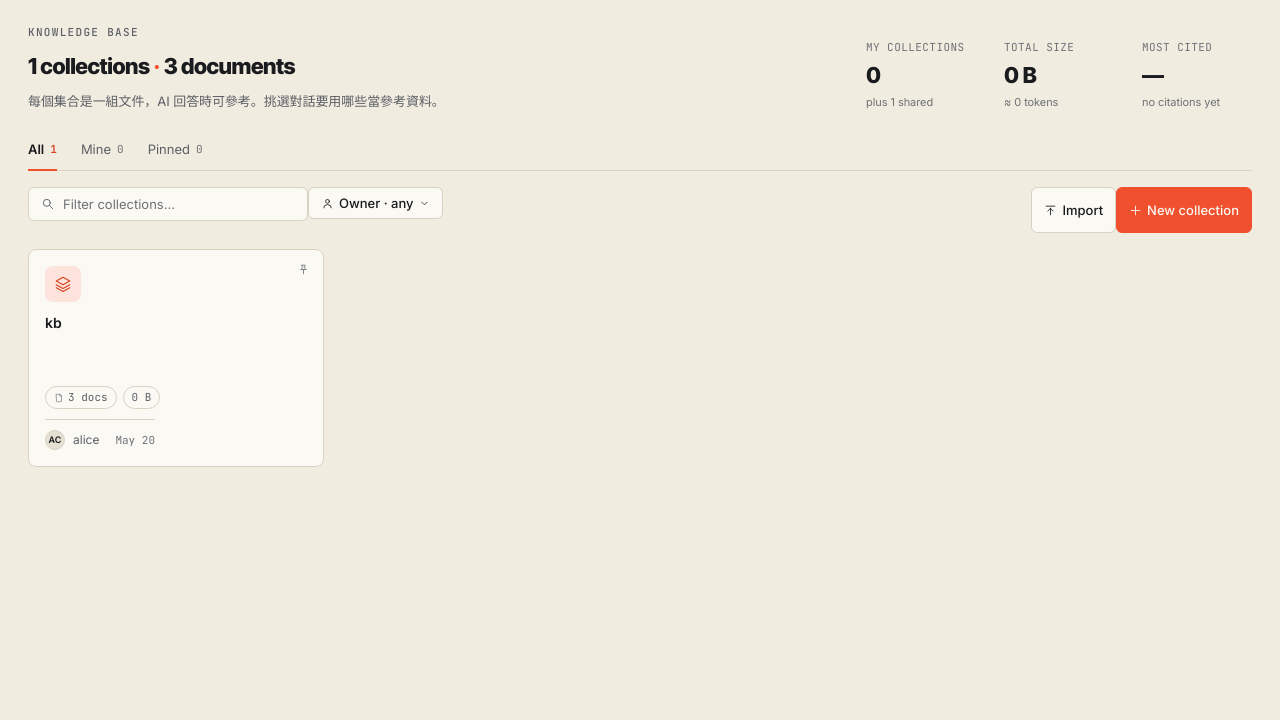
Scenario: KbCollectionsPage › says so when the re-read could not be sent at all
The image size is (1280, 720).
Click the button with aria-label "Open kb" at (63, 284), box [28,249,324,467]
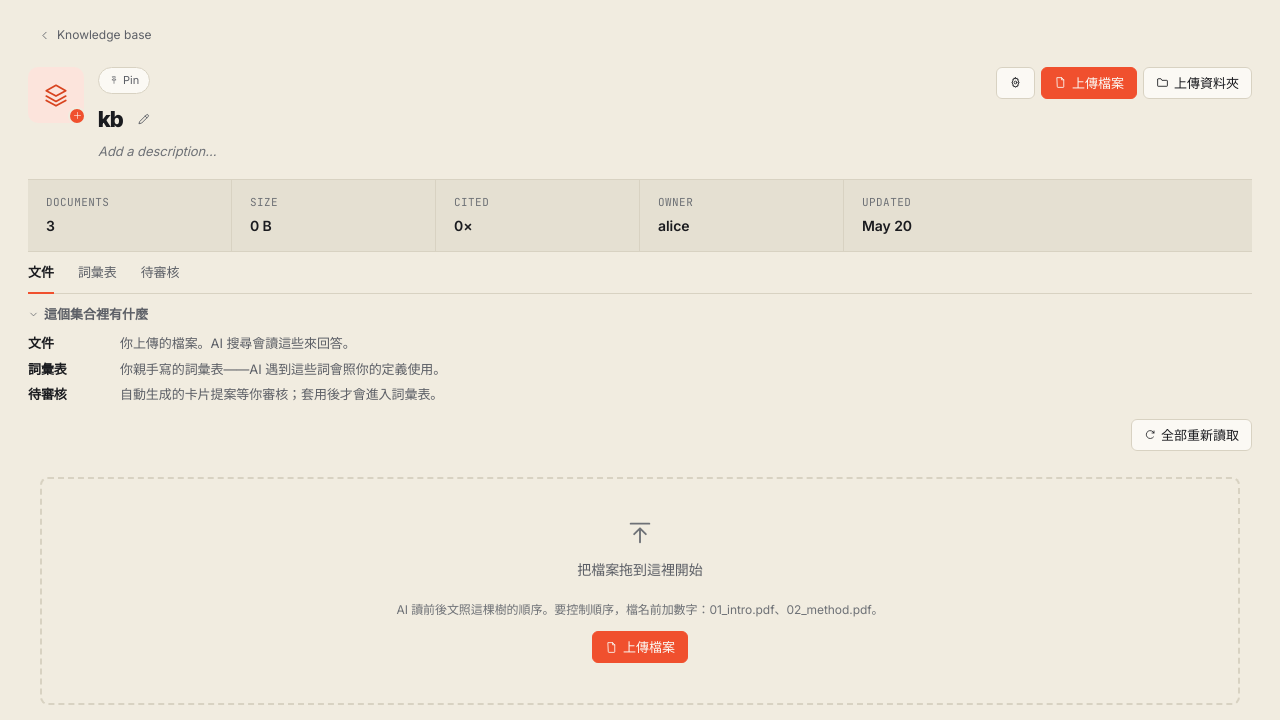
Click the button with test id "kb-reindex-all" at (1192, 435), box [1131,419,1252,451]
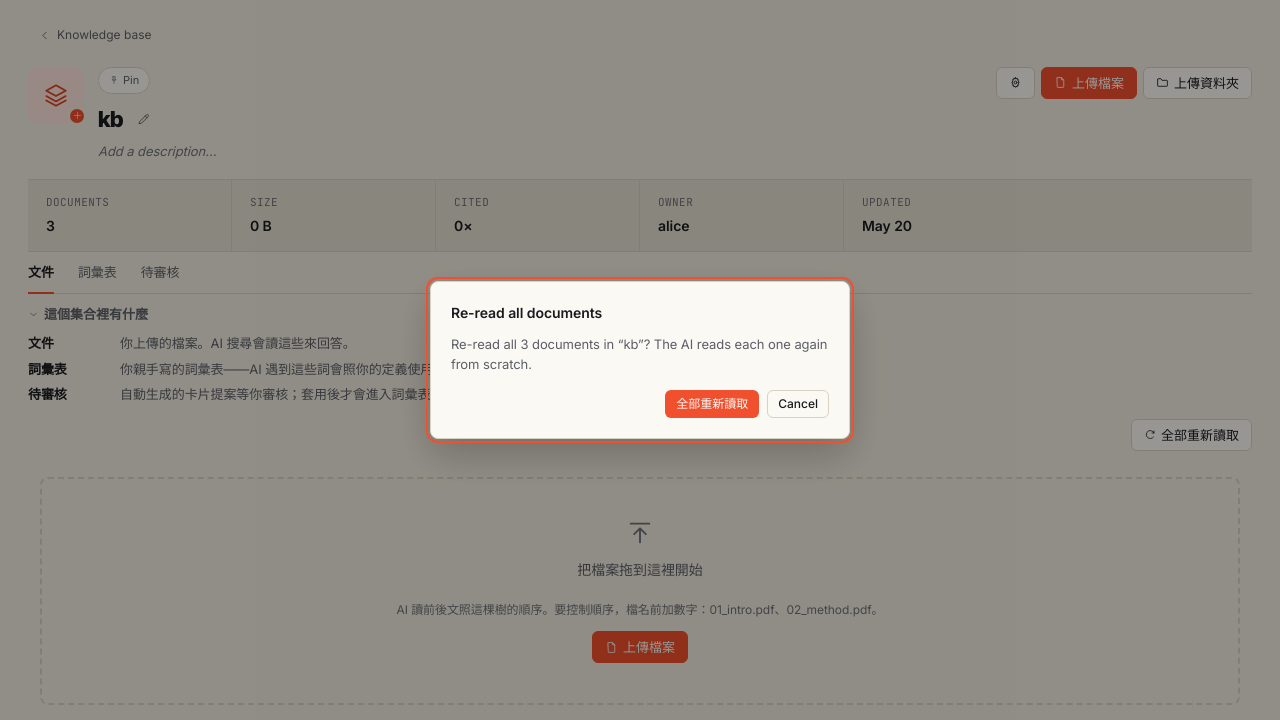
Click the button "全部重新讀取" at (712, 404), box [665,390,759,418]
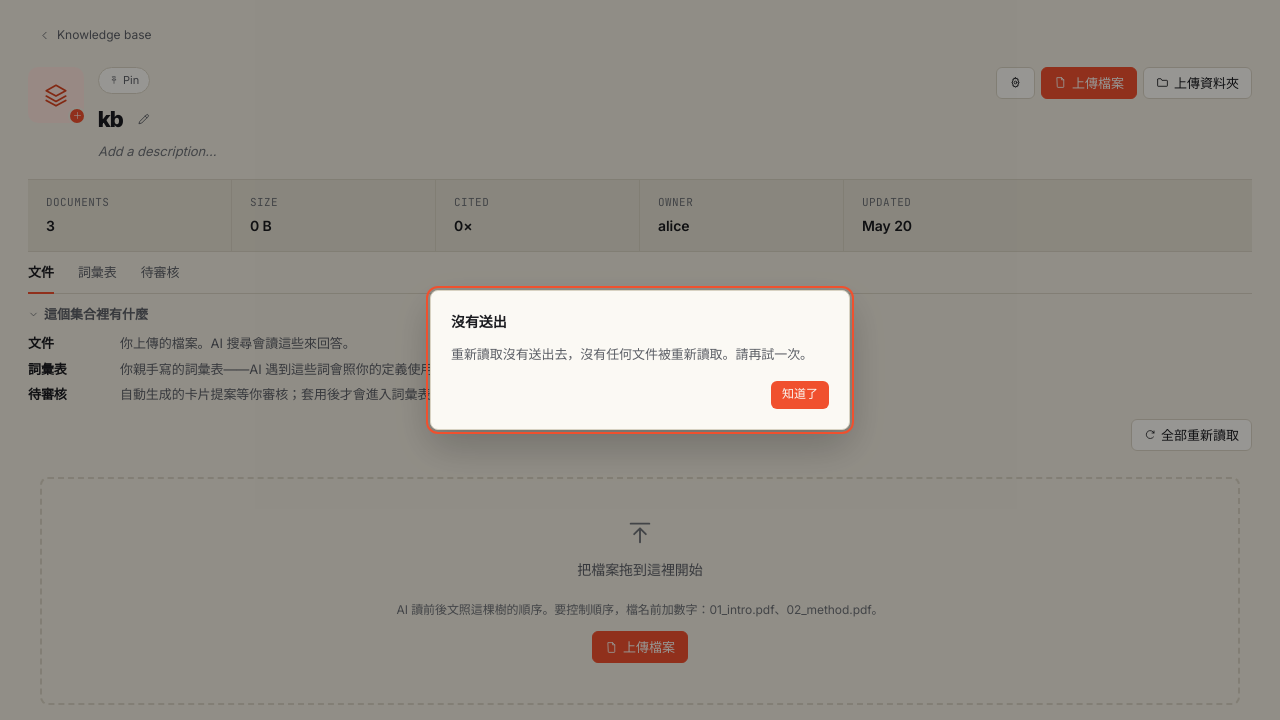
Result: the dialog "沒有送出" is shown at [430,290,850,430]
